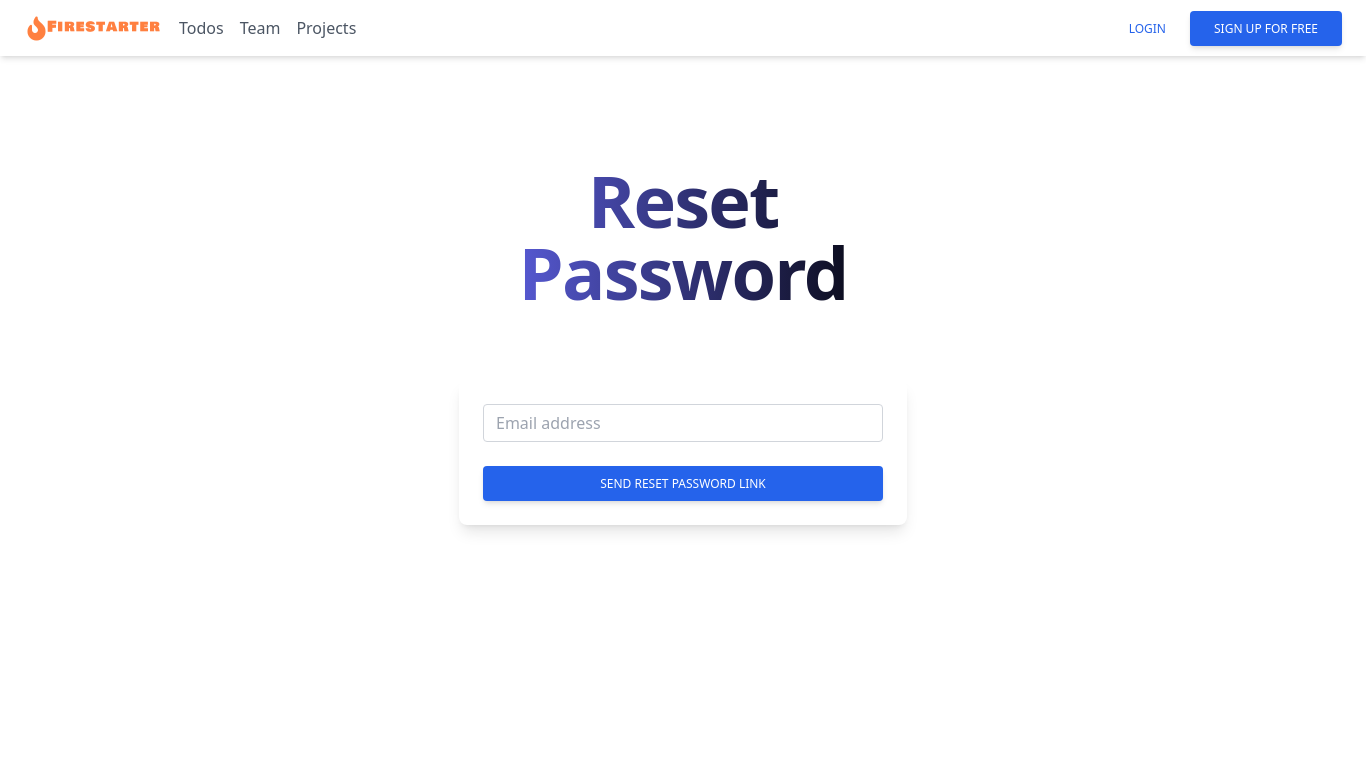
Test: ResetPassword › validates the email format
The image size is (1366, 768).
Type "me@them.com" into the field with placeholder "Email address" at (683, 423), box x1=483 y1=404 x2=883 y2=442
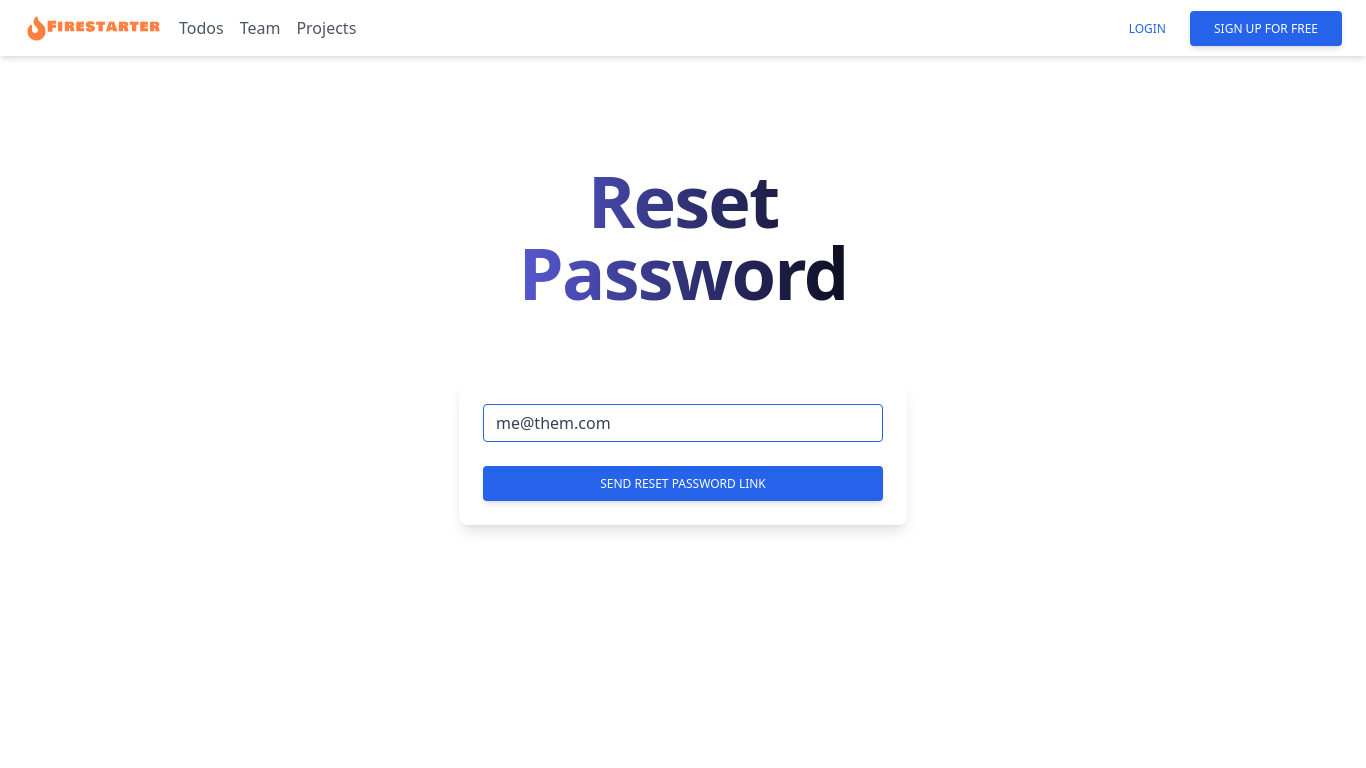
Replace the text in the field with placeholder "Email address" with "methem" at (683, 423), box x1=483 y1=404 x2=883 y2=442
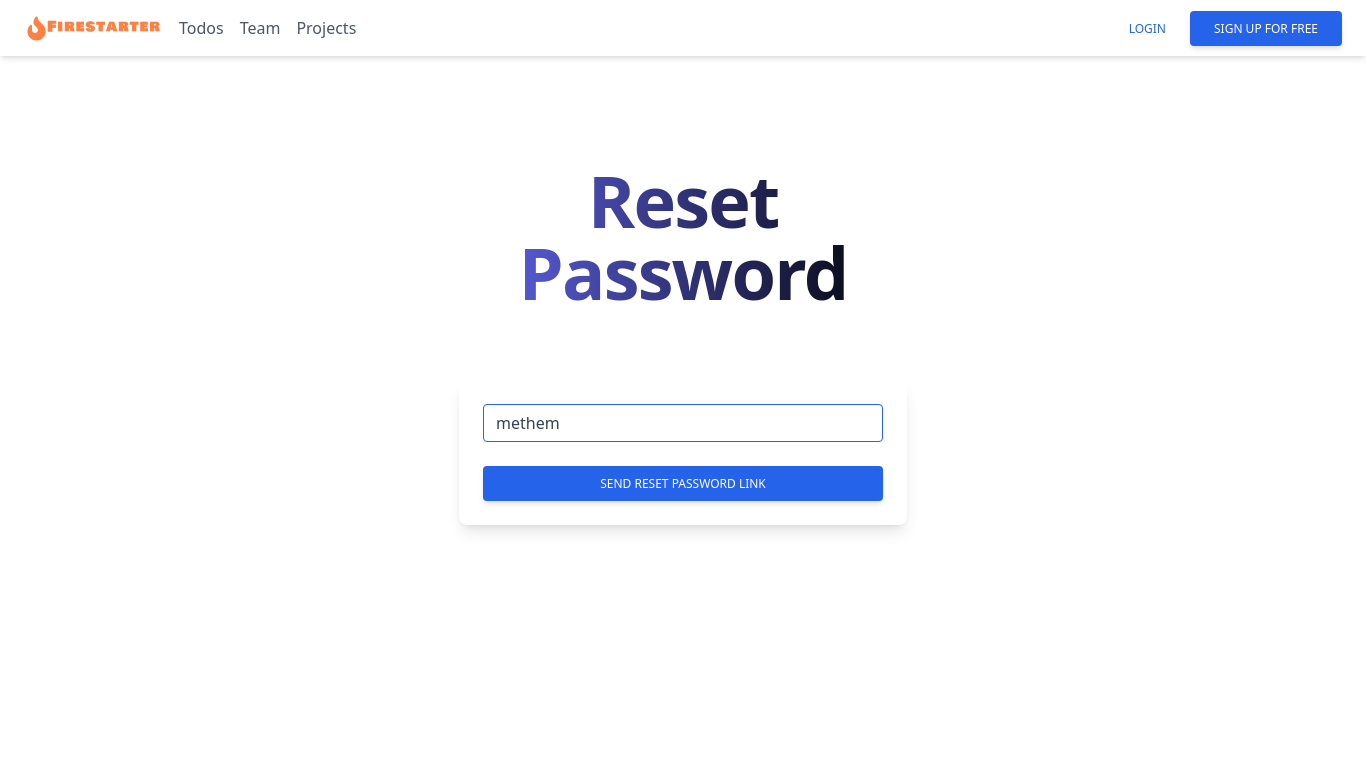
Click the button "Send Reset Password Link" at (683, 484), box x1=483 y1=466 x2=883 y2=501
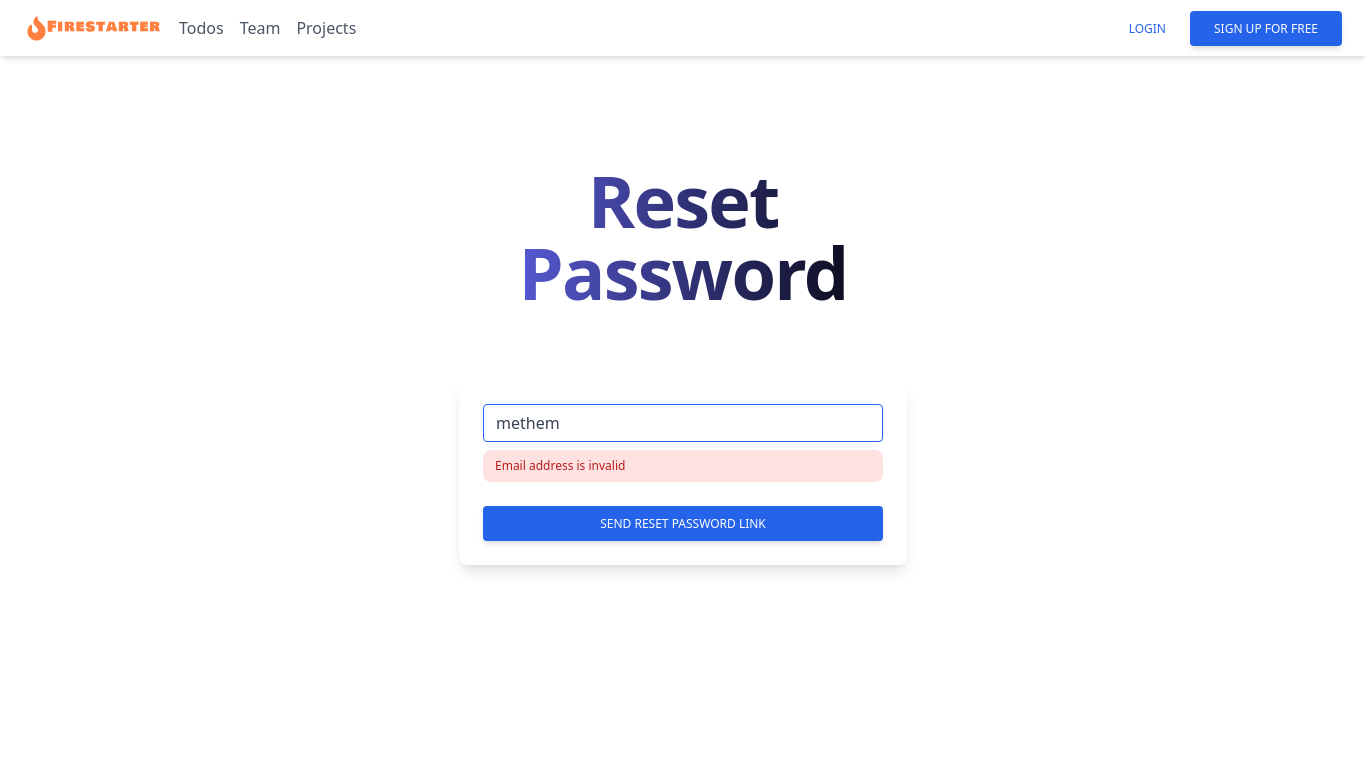
Now the number of messages is 1, box x1=483 y1=450 x2=883 y2=482
Now the message reads "Email address is invalid", box x1=495 y1=457 x2=625 y2=474
